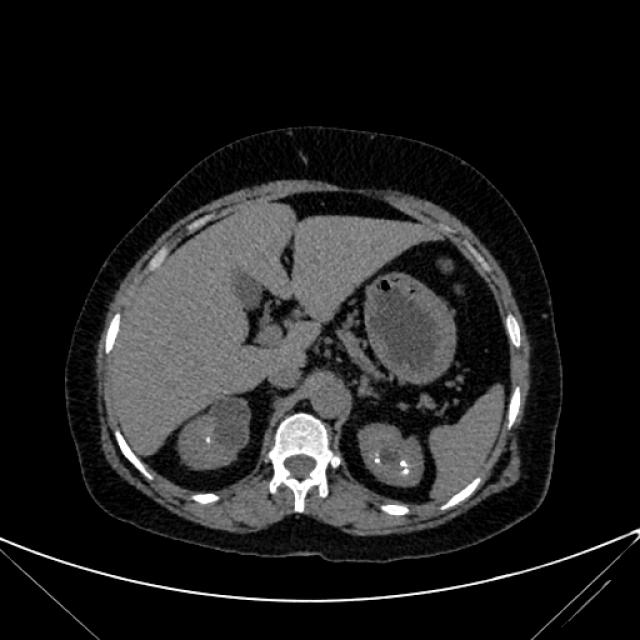kidney: (176, 399, 257, 469), (359, 420, 426, 489)
stone: (402, 466, 411, 476), (205, 434, 212, 442), (374, 456, 381, 463), (402, 458, 408, 466)
